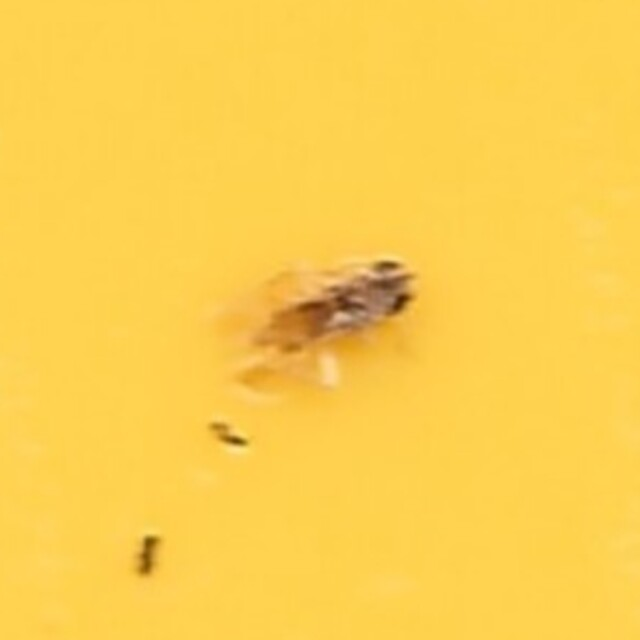Hemiptera: (217, 246, 423, 394)
